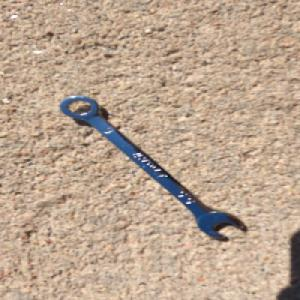Wrench: (57, 91, 246, 239)
